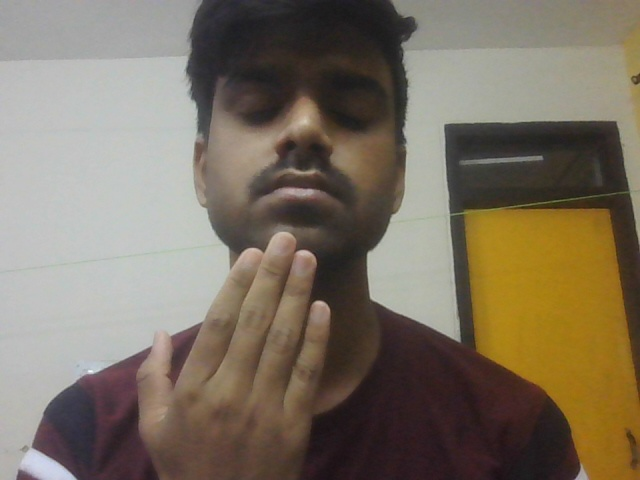thanks: (113, 225, 344, 480)
